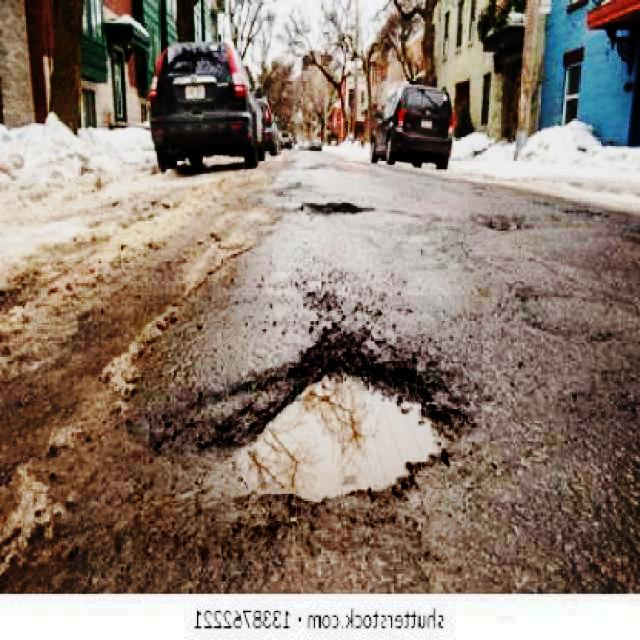pothole: (133, 295, 482, 560)
